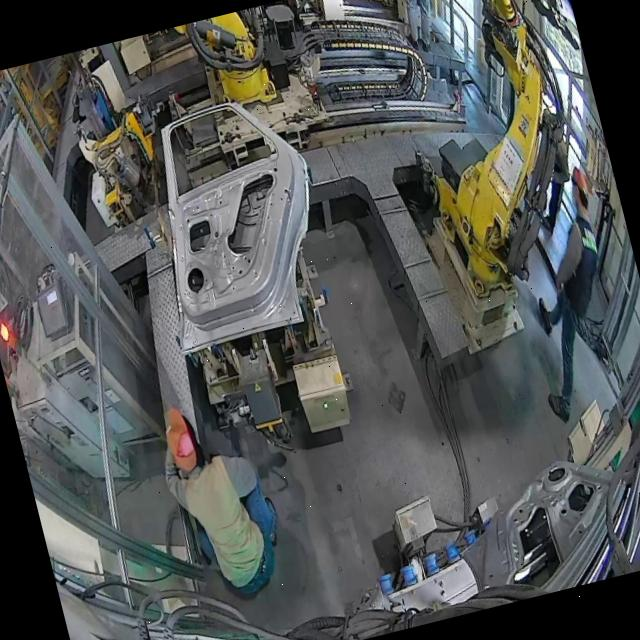Person: (494, 163, 640, 426), (148, 388, 294, 609), (394, 0, 454, 55)
